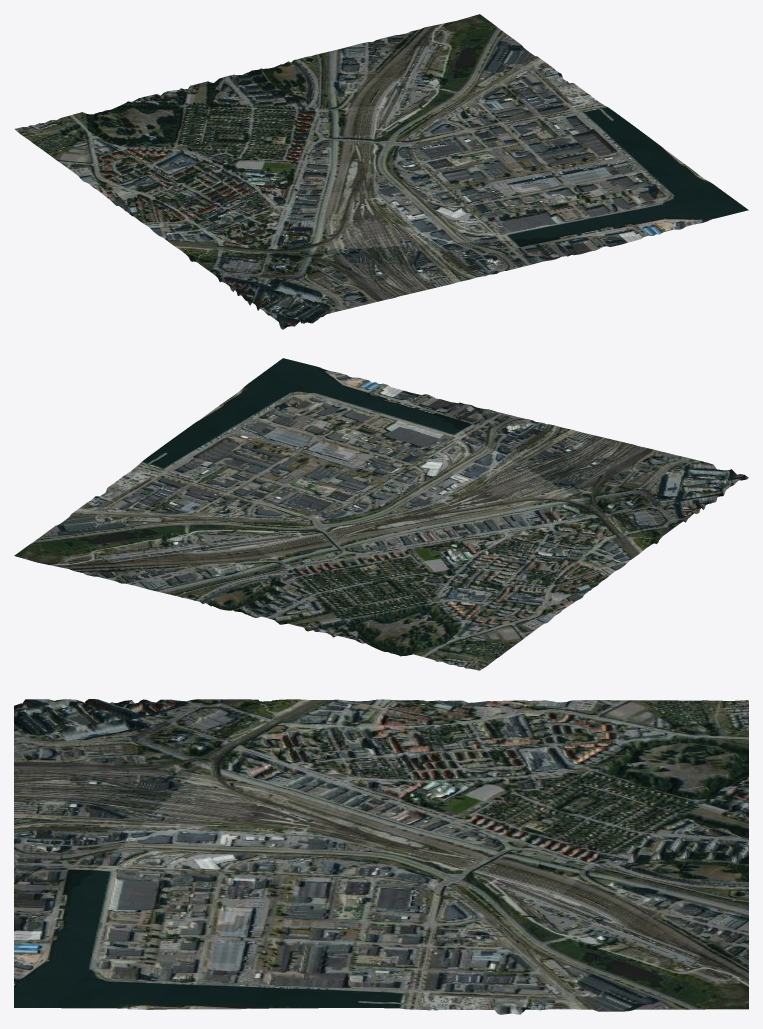
File: map_10_251_426.dae
The picture shows the model from 3 angles, top to bottom: view 1: azimuth 30°, elevation 25°; view 2: azimuth 150°, elevation 25°; view 3: azimuth 270°, elevation 25°; orthographic projection. The views are drawn at different scales.
Visible parts, largest first — view 1: Ter0; view 2: Ter0; view 3: Ter0.
Boxes of the visible parts, <box> form: Ter0: <box>14,14,748,329</box>; Ter0: <box>14,358,748,670</box>; Ter0: <box>14,699,748,1014</box>.
Size of the model in its own units: 2044 by 2044 by 52.32.
3 materials, 3 textured.
